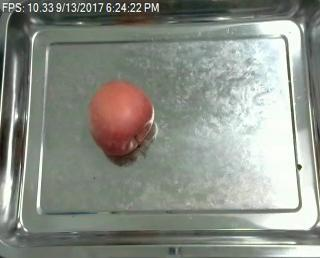apple: (88, 80, 153, 156)
